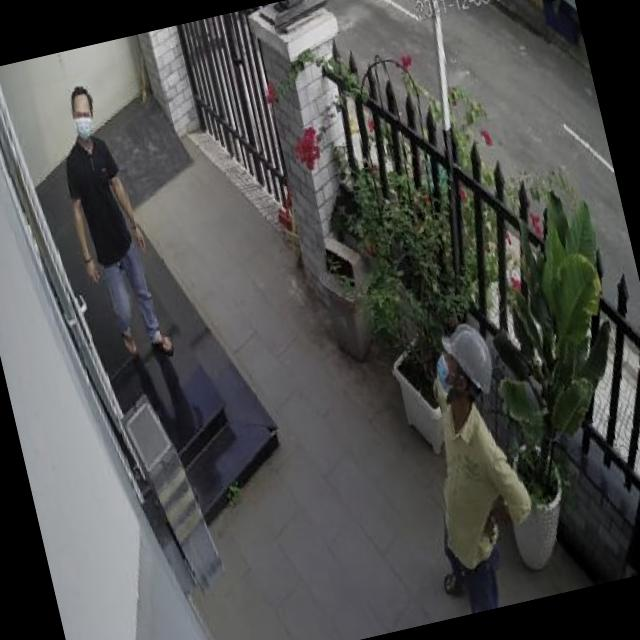Person: (386, 320, 554, 618), (42, 73, 178, 370)
